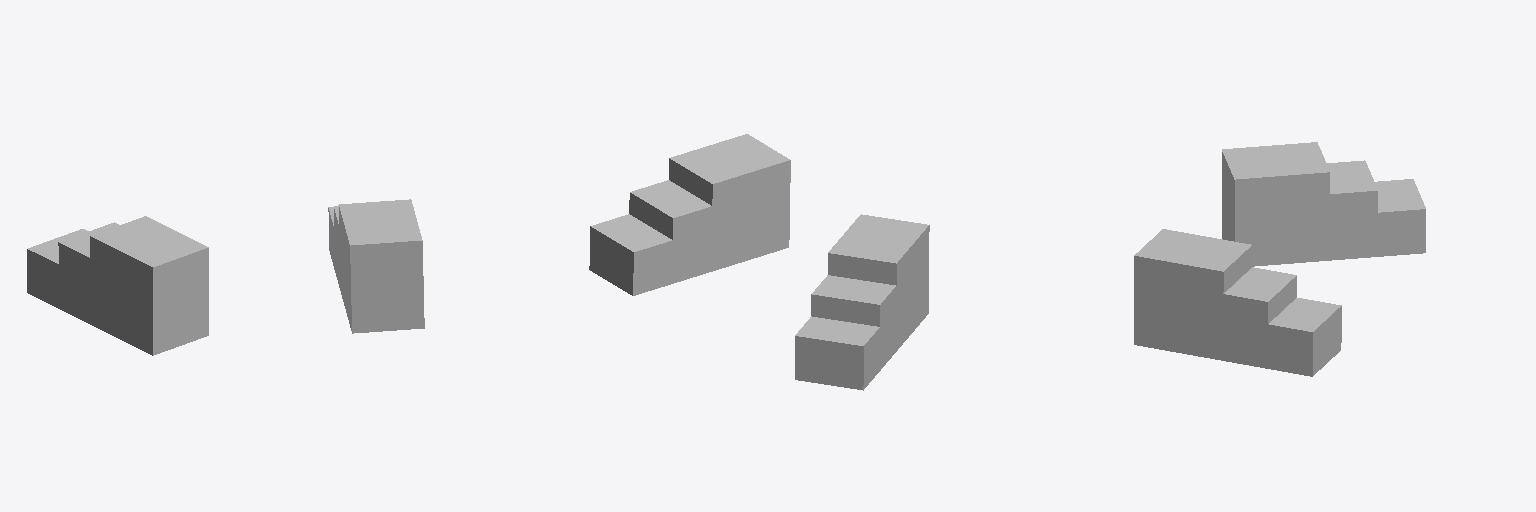
File: Spacehero-shoes.obj
The picture shows the model from 3 angles: view 1: azimuth 30°, elevation 25°; view 2: azimuth 150°, elevation 25°; view 3: azimuth 270°, elevation 25°; orthographic projection.
Visible parts, largest first — view 1: Left_Foot-local, Right_Foot-local; view 2: Right_Foot-local, Left_Foot-local; view 3: Right_Foot-local, Left_Foot-local.
Boxes of the visible parts, box(x1,y1,x2,y2) form: Left_Foot-local: box(27, 216, 208, 355); Right_Foot-local: box(328, 199, 424, 333); Right_Foot-local: box(589, 134, 790, 295); Left_Foot-local: box(795, 214, 929, 390); Right_Foot-local: box(1134, 229, 1341, 376); Left_Foot-local: box(1222, 142, 1425, 266).
Bounding box in the file's own units: 0.1538 × 0.0419 × 0.1202.